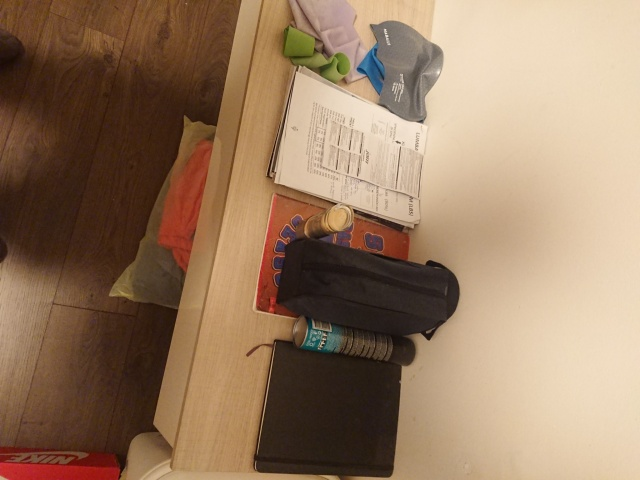Kotanyi Garlic Granules 70g: (293, 202, 355, 242)
